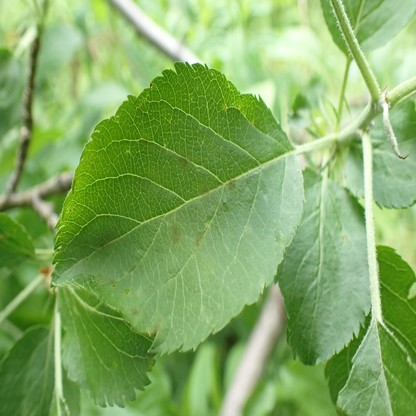scab: (78, 226, 115, 265), (191, 231, 204, 252), (226, 178, 237, 192), (152, 320, 162, 335), (172, 226, 180, 244), (178, 155, 189, 166), (197, 186, 209, 196), (106, 279, 116, 288), (131, 307, 139, 315)
